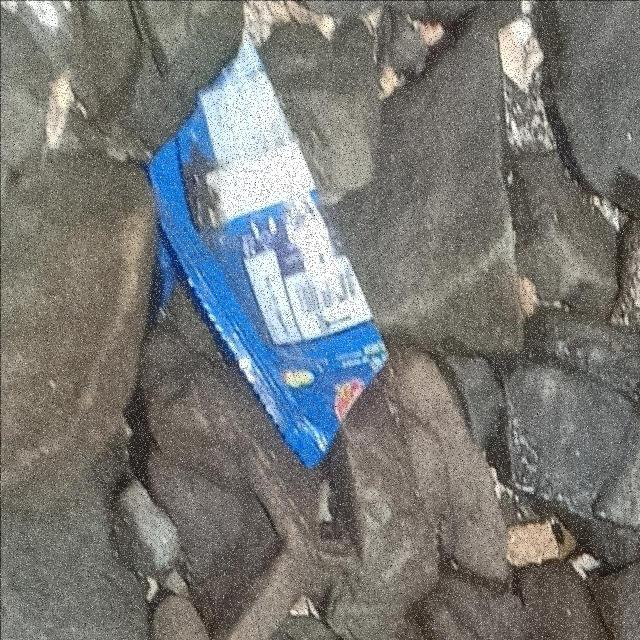plastic_waste: (145, 26, 390, 470)
